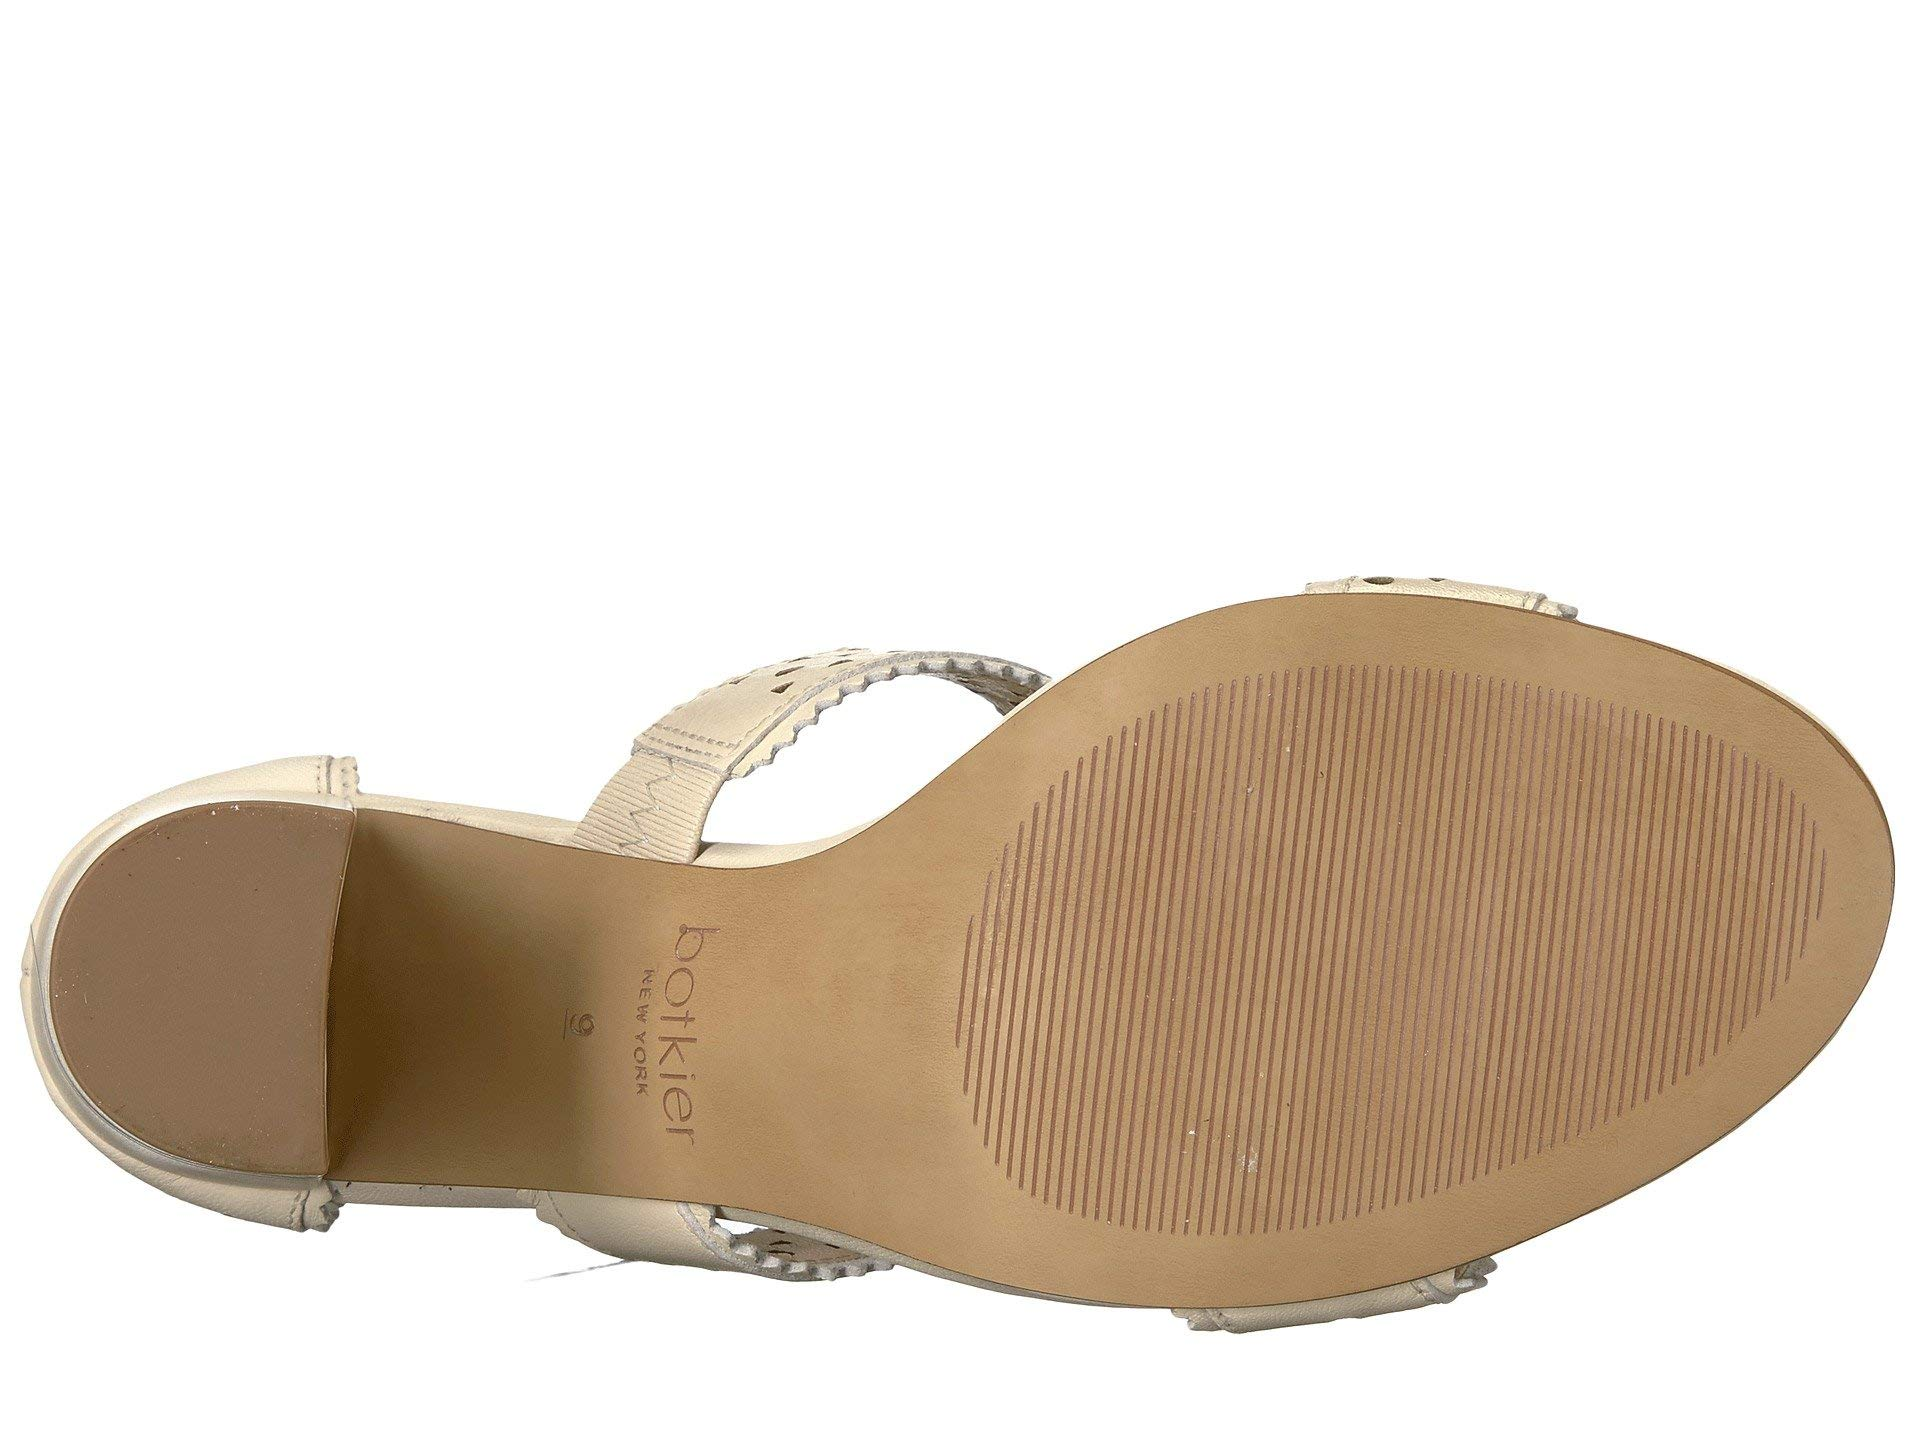line: (1184, 687, 1672, 1144)
